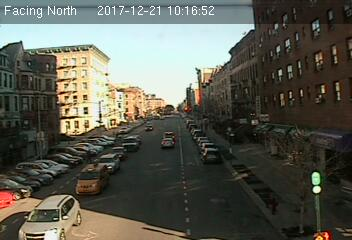car: (17, 191, 82, 240), (75, 162, 109, 196), (98, 155, 121, 171), (111, 145, 127, 159), (161, 137, 175, 148)
truck: (203, 147, 222, 163)
